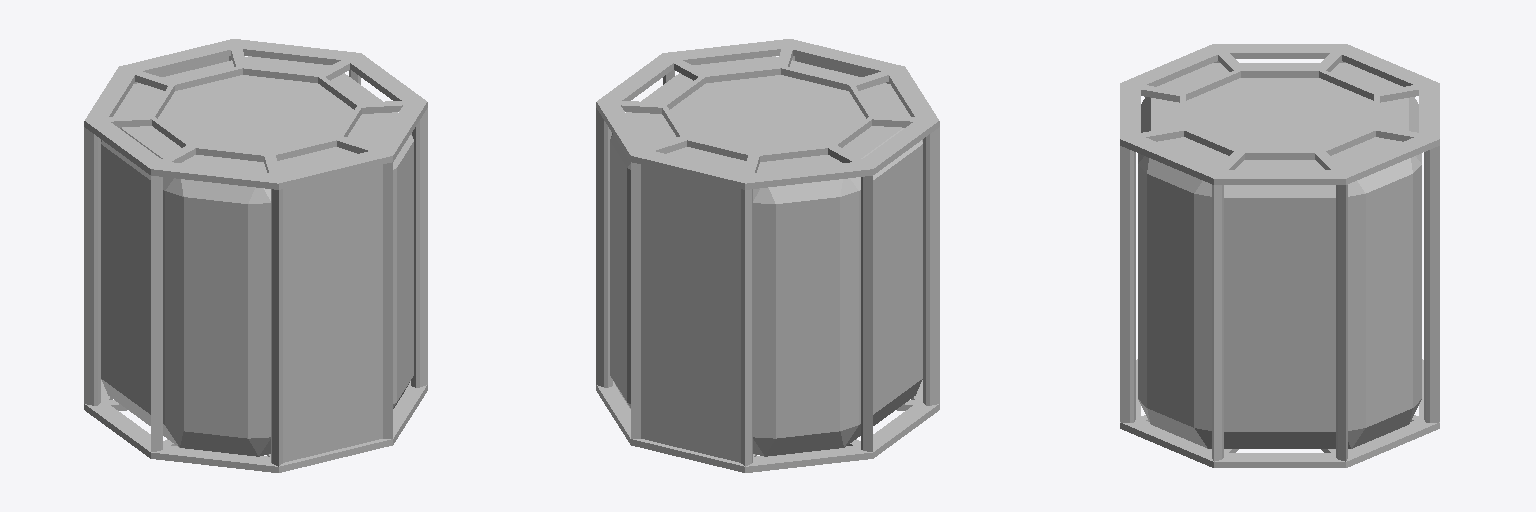
The model's file is tank3x3.obj.
The picture shows the model from 3 angles: view 1: azimuth 30°, elevation 25°; view 2: azimuth 150°, elevation 25°; view 3: azimuth 270°, elevation 25°; orthographic projection.
Visible parts, largest first — view 1: Cylinder.008_Cylinder.028, Cube_Cube.009, Cylinder.009_Cylinder.029; view 2: Cylinder.008_Cylinder.028, Cube_Cube.009, Cylinder.009_Cylinder.029; view 3: Cube_Cube.009, Cylinder.008_Cylinder.028, Cylinder.009_Cylinder.029.
Part boxes in pixels (bbox=[...]): Cylinder.008_Cylinder.028: bbox=[84, 39, 427, 466]; Cube_Cube.009: bbox=[101, 56, 413, 456]; Cylinder.009_Cylinder.029: bbox=[84, 380, 427, 472]; Cylinder.008_Cylinder.028: bbox=[596, 39, 939, 466]; Cube_Cube.009: bbox=[610, 56, 922, 456]; Cylinder.009_Cylinder.029: bbox=[596, 380, 939, 472]; Cube_Cube.009: bbox=[1138, 63, 1421, 448]; Cylinder.008_Cylinder.028: bbox=[1120, 44, 1439, 461]; Cylinder.009_Cylinder.029: bbox=[1120, 359, 1439, 467].
Bounding box in the file's own units: 9 × 9 × 9.